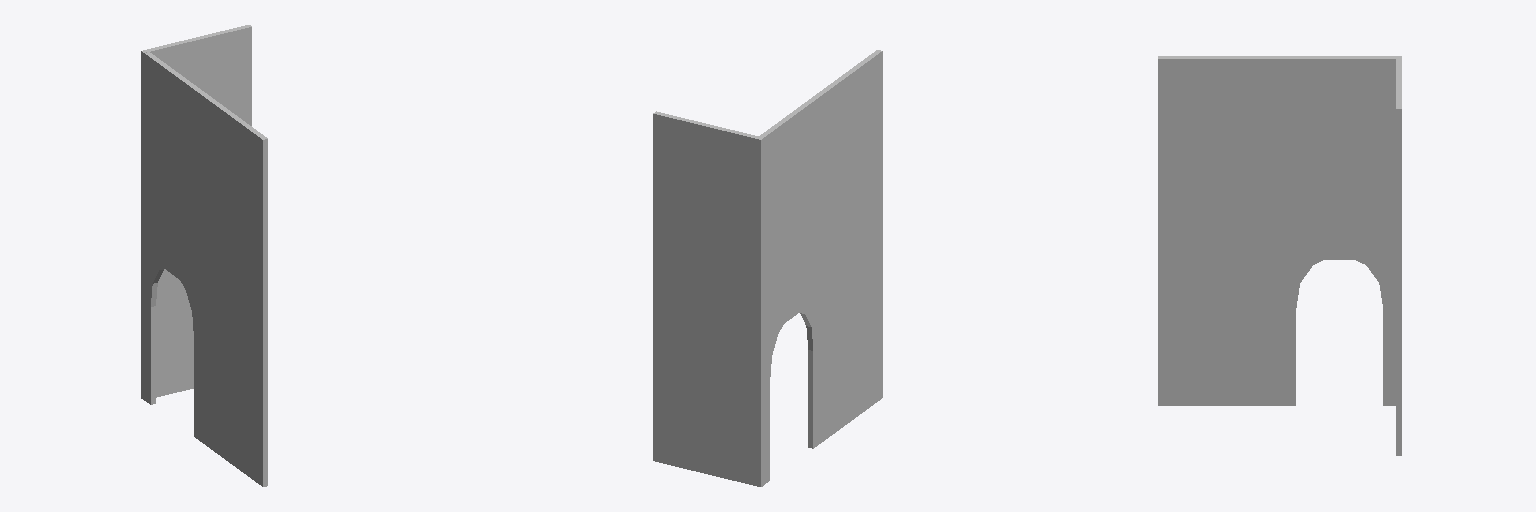
Rendered from wall_04.obj.
3 renders of one model, left to right at view 1: azimuth 30°, elevation 25°; view 2: azimuth 150°, elevation 25°; view 3: azimuth 270°, elevation 25°, orthographic.
Visible parts, largest first — view 1: wall wall_04, wall_04 wall5; view 2: wall_04 wall5, wall wall_04; view 3: wall wall_04, wall_04 wall5.
Part boxes in pixels (left/top/right/bottom): wall wall_04: left=144, top=52, right=267, bottom=486; wall_04 wall5: left=141, top=25, right=251, bottom=399; wall_04 wall5: left=653, top=111, right=763, bottom=486; wall wall_04: left=759, top=50, right=882, bottom=484; wall wall_04: left=1158, top=56, right=1395, bottom=405; wall_04 wall5: left=1396, top=56, right=1401, bottom=455.
Size of the model in its own units: 2.93 by 9 by 5.71.